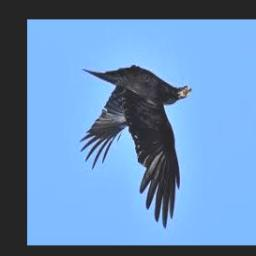Crow: (82, 66, 191, 229)
